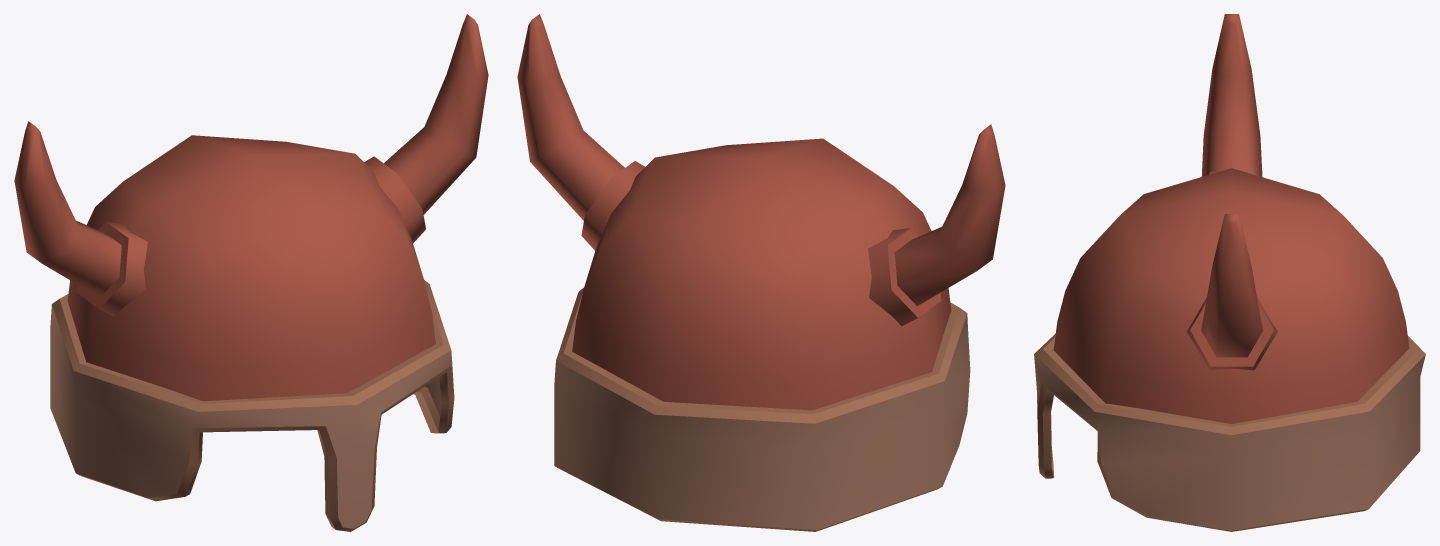
The model's file is warriorHelmet.fbx.
3 renders of one model, left to right at view 1: azimuth 30°, elevation 25°; view 2: azimuth 150°, elevation 25°; view 3: azimuth 270°, elevation 25°, orthographic. The views are drawn at different scales.
Visible parts, largest first — view 1: warriorHelmet; view 2: warriorHelmet; view 3: warriorHelmet.
Boxes of the visible parts, bbox=[...] form: warriorHelmet: bbox=[14, 14, 488, 531]; warriorHelmet: bbox=[517, 14, 1005, 531]; warriorHelmet: bbox=[1034, 14, 1425, 531].
Bounding box in the file's own units: 0.62 × 0.497 × 0.4858.
